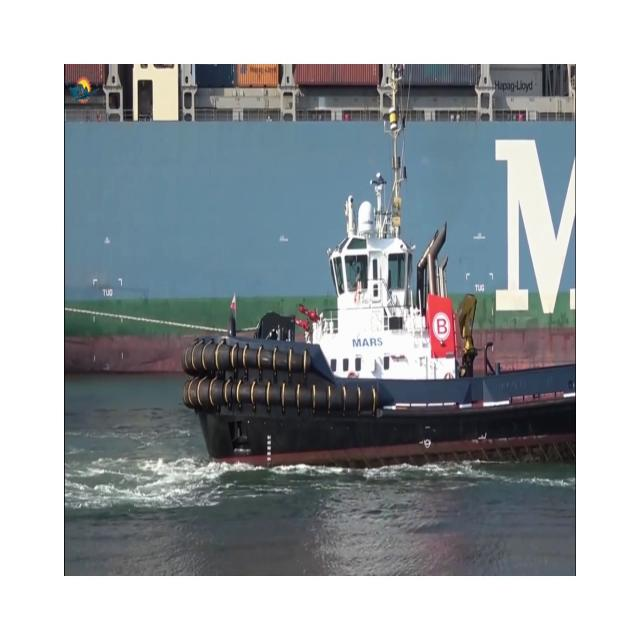OCR: (351, 332, 392, 351)
